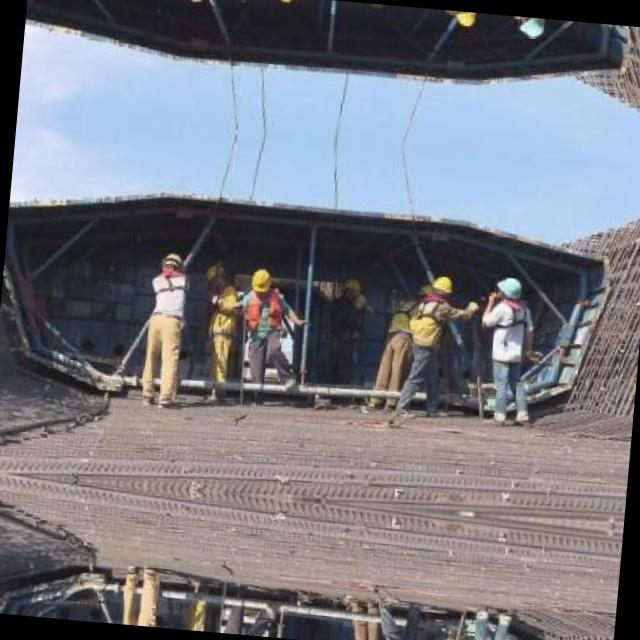helmet: (248, 264, 276, 292), (494, 274, 522, 302), (160, 247, 184, 275), (516, 16, 546, 38), (429, 272, 452, 297), (452, 10, 477, 28), (342, 276, 362, 296), (184, 0, 208, 6), (272, 0, 300, 5), (368, 4, 388, 10)
